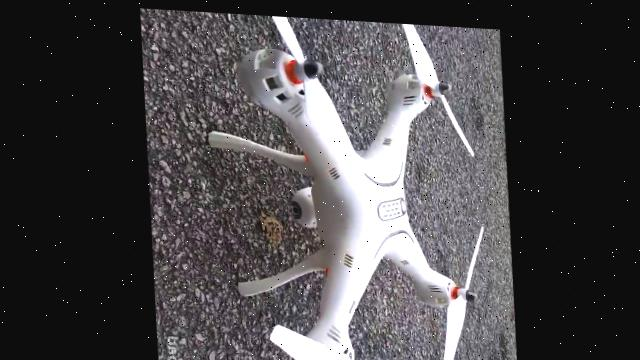drone: (198, 9, 492, 360)
